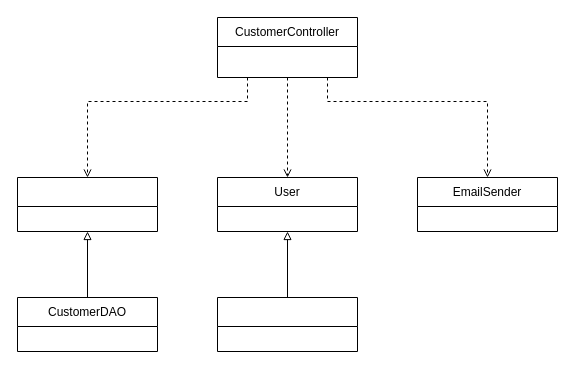
This 575x369 diagram has some shape labels left out. The box of each missing label's shape, as (x1, y1, x2, y2) in pixels:
Customer: (216, 296, 358, 352)
UserDAO: (16, 176, 158, 232)
